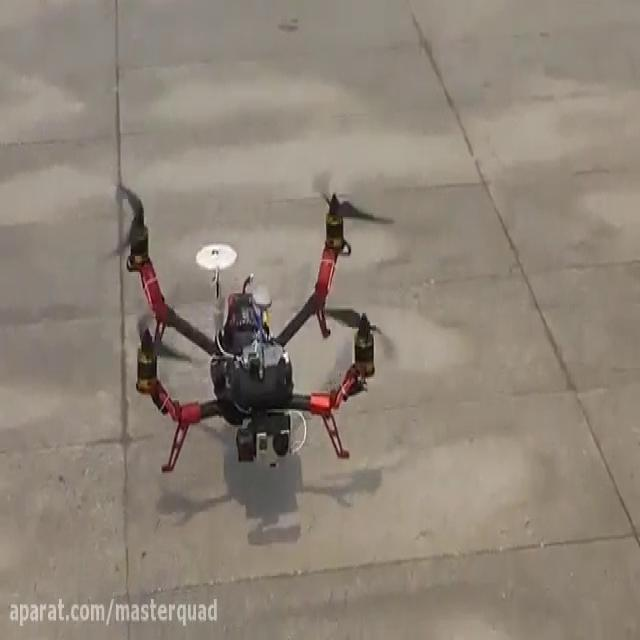drone: (97, 160, 396, 478)
